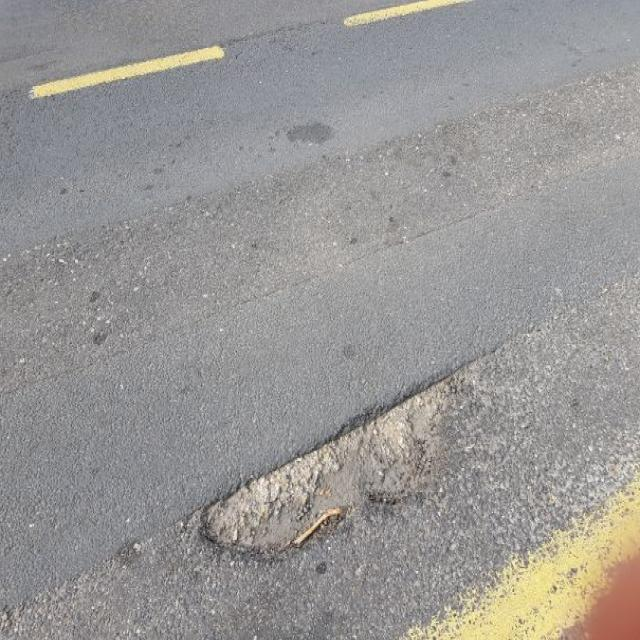pothole: (194, 347, 498, 557)
